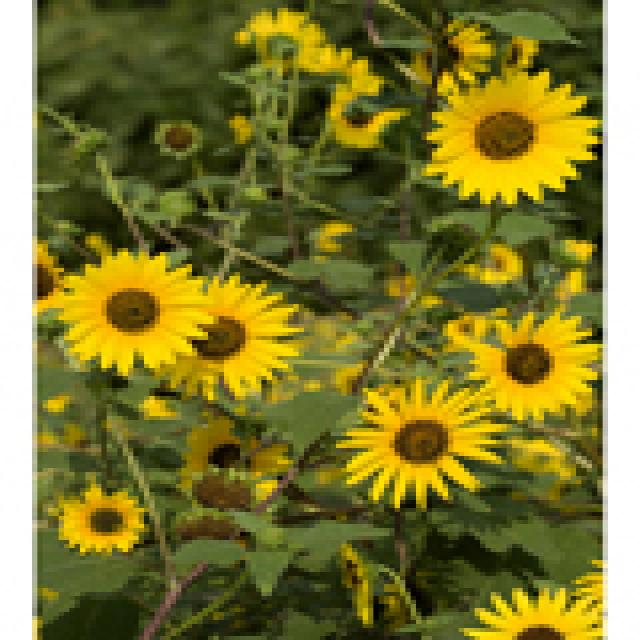sunflower: (419, 63, 607, 209), (332, 377, 510, 516), (51, 244, 223, 385), (147, 270, 310, 408), (163, 398, 297, 512), (391, 21, 500, 105), (454, 581, 604, 640), (292, 28, 389, 108), (318, 84, 417, 156), (51, 486, 155, 554), (228, 6, 328, 72), (564, 543, 609, 638), (150, 106, 213, 172), (23, 231, 68, 318), (506, 432, 576, 482), (462, 242, 526, 291), (383, 269, 442, 314), (480, 34, 541, 74), (307, 221, 363, 263), (536, 265, 592, 305), (556, 236, 592, 269)
